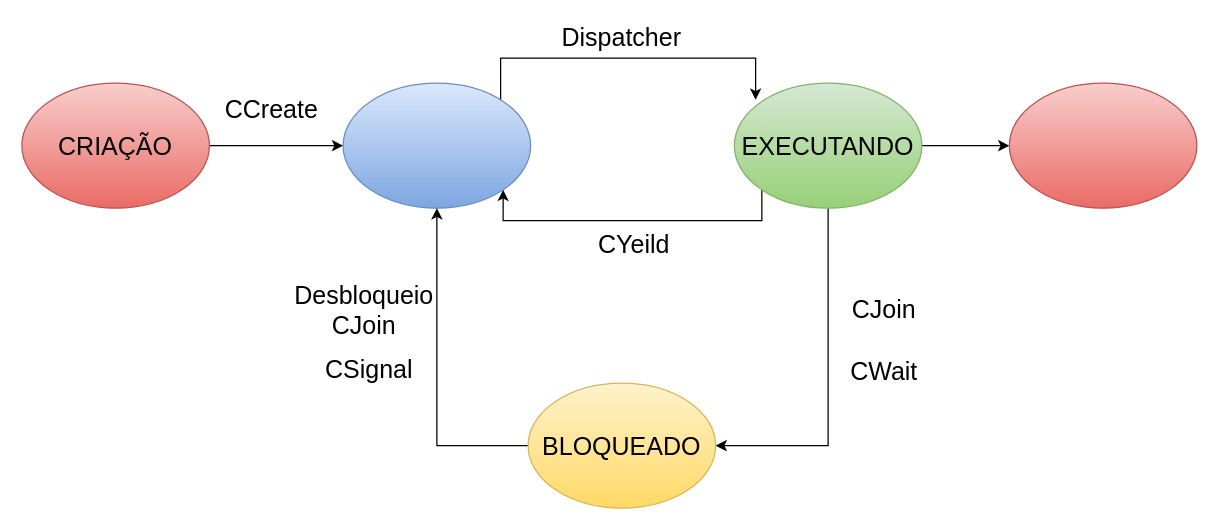
Image size: 1219x530. Some labels were removed from this diagram. Here are the shapes that lost their labels. From the top down, the box of each, then its label:
(342, 82, 531, 208): APTO
(1008, 82, 1197, 208): TÉRMINO
